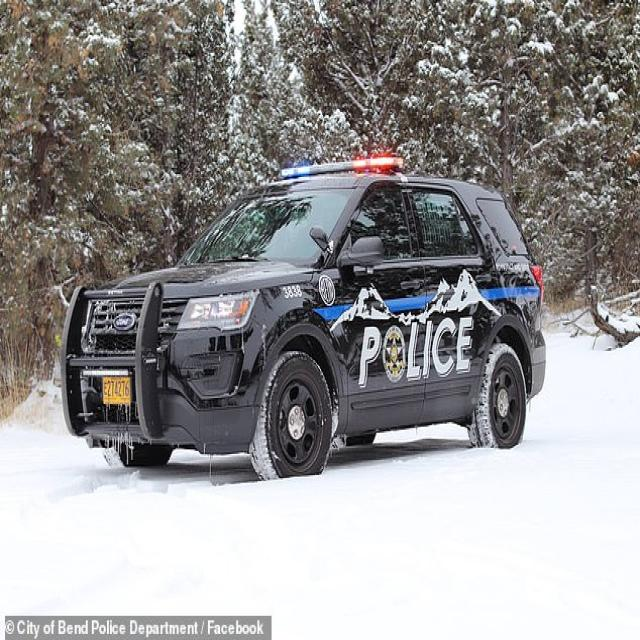cop: (64, 155, 548, 484)
